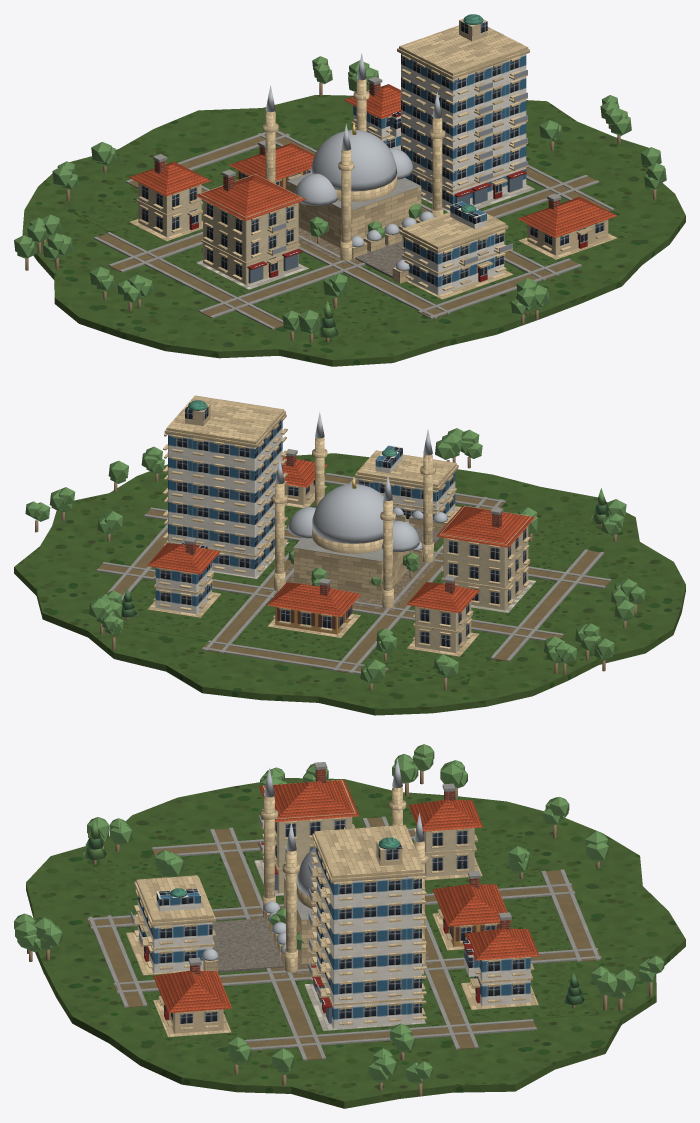
File: city_orient_medium.gltf
3 renders of one model, top to bottom at view 1: azimuth 30°, elevation 25°; view 2: azimuth 150°, elevation 25°; view 3: azimuth 270°, elevation 25°, orthographic. The views are drawn at different scales.
Visible parts, largest first — view 1: city_orient_medium; view 2: city_orient_medium; view 3: city_orient_medium.
Boxes of the visible parts, x1,y1,x2,y2 form: city_orient_medium: [14, 14, 685, 366]; city_orient_medium: [14, 395, 685, 715]; city_orient_medium: [14, 744, 685, 1108].
Bounding box in the file's own units: 3.07 × 0.9347 × 2.69.
22 materials, 15 textured.
